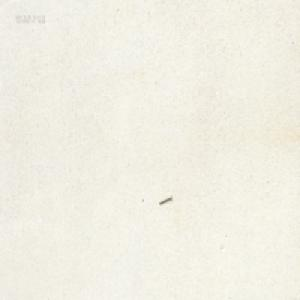Bolt: (158, 196, 171, 206)
